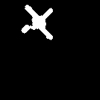single_crochet: (22, 5, 52, 38)
